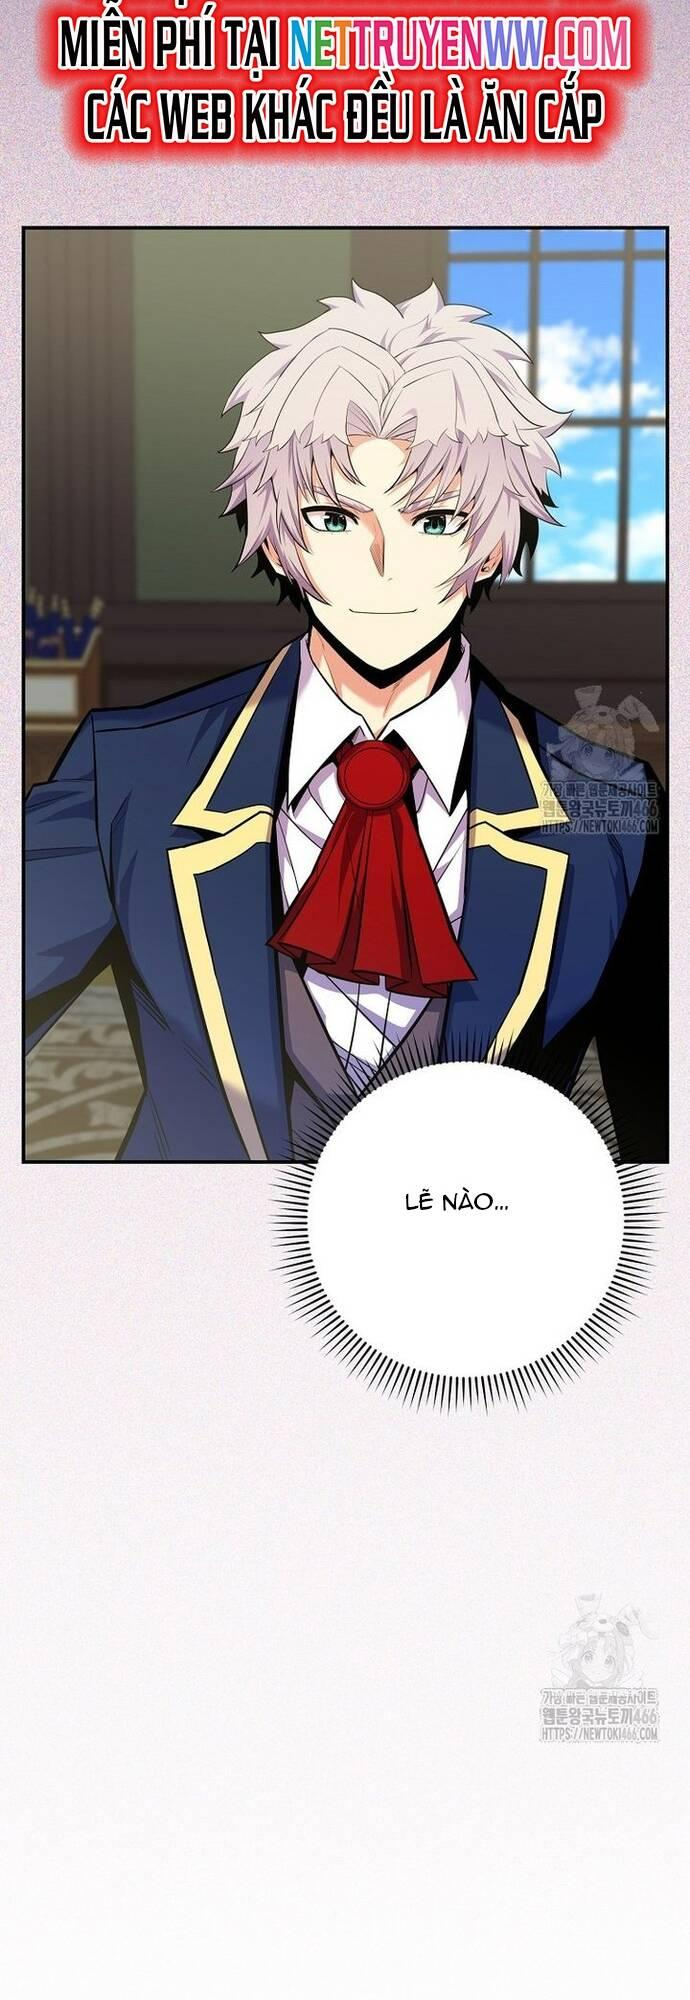quangcao: (40, 0, 645, 156)
